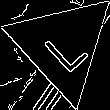L_NW: (35, 16, 90, 74)
